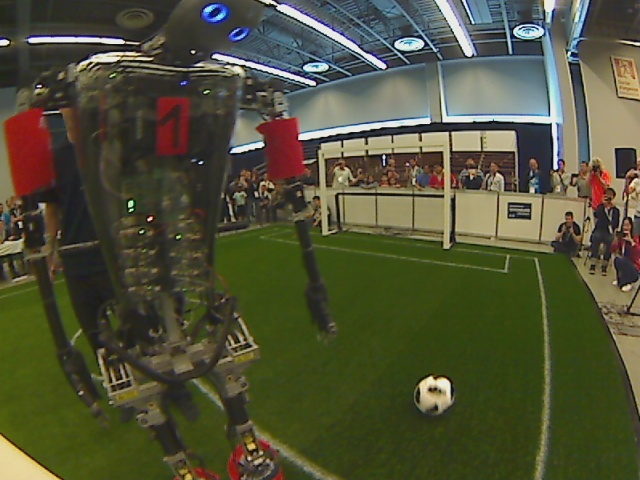ball: (412, 374, 454, 417)
